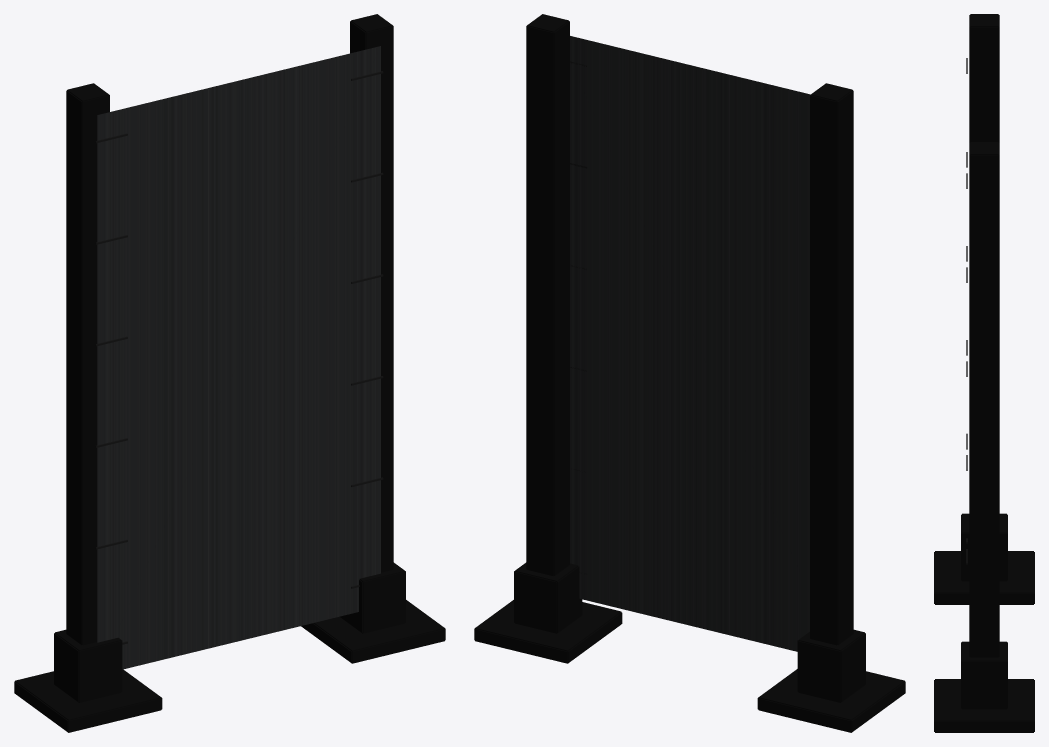
Rendered from obj_mesh_wall_black_short.glb.
3 renders of one model, left to right at view 1: azimuth 30°, elevation 25°; view 2: azimuth 150°, elevation 25°; view 3: azimuth 270°, elevation 25°, orthographic. The views are drawn at different scales.
Parts seen in each view (by area): view 1: mesh, mesh_wall_black_short_body; view 2: mesh, mesh_wall_black_short_body; view 3: mesh_wall_black_short_body.
Part boxes in pixels (bbox=[...]): mesh: bbox=[97, 46, 380, 669]; mesh_wall_black_short_body: bbox=[14, 14, 445, 732]; mesh: bbox=[570, 36, 810, 651]; mesh_wall_black_short_body: bbox=[474, 14, 905, 732]; mesh_wall_black_short_body: bbox=[934, 14, 1034, 732].
Bounding box in the file's own units: 1.2 × 1.85 × 0.3.
Materials: 3 (2 with a texture image).
